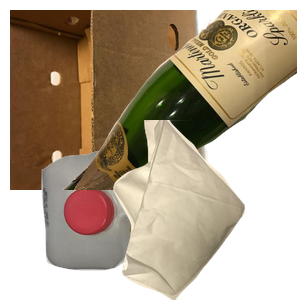cardboard: (10, 10, 211, 190)
glass: (60, 10, 300, 190)
plastic: (39, 149, 203, 300)
trash: (111, 120, 300, 300)
